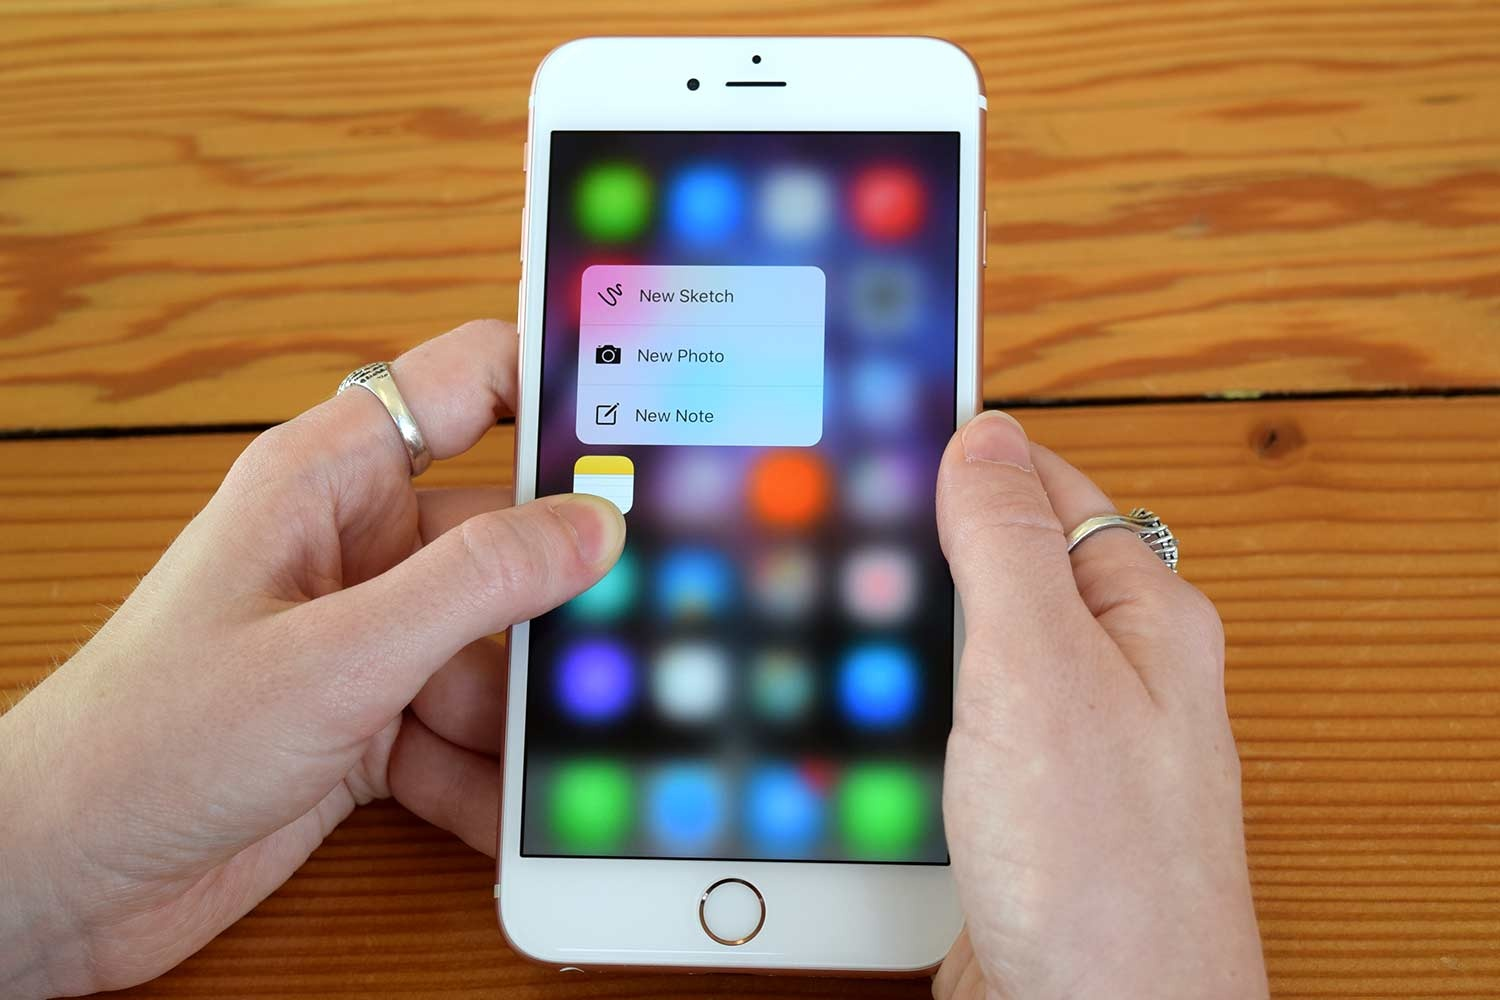smartphone: (494, 33, 987, 973)
